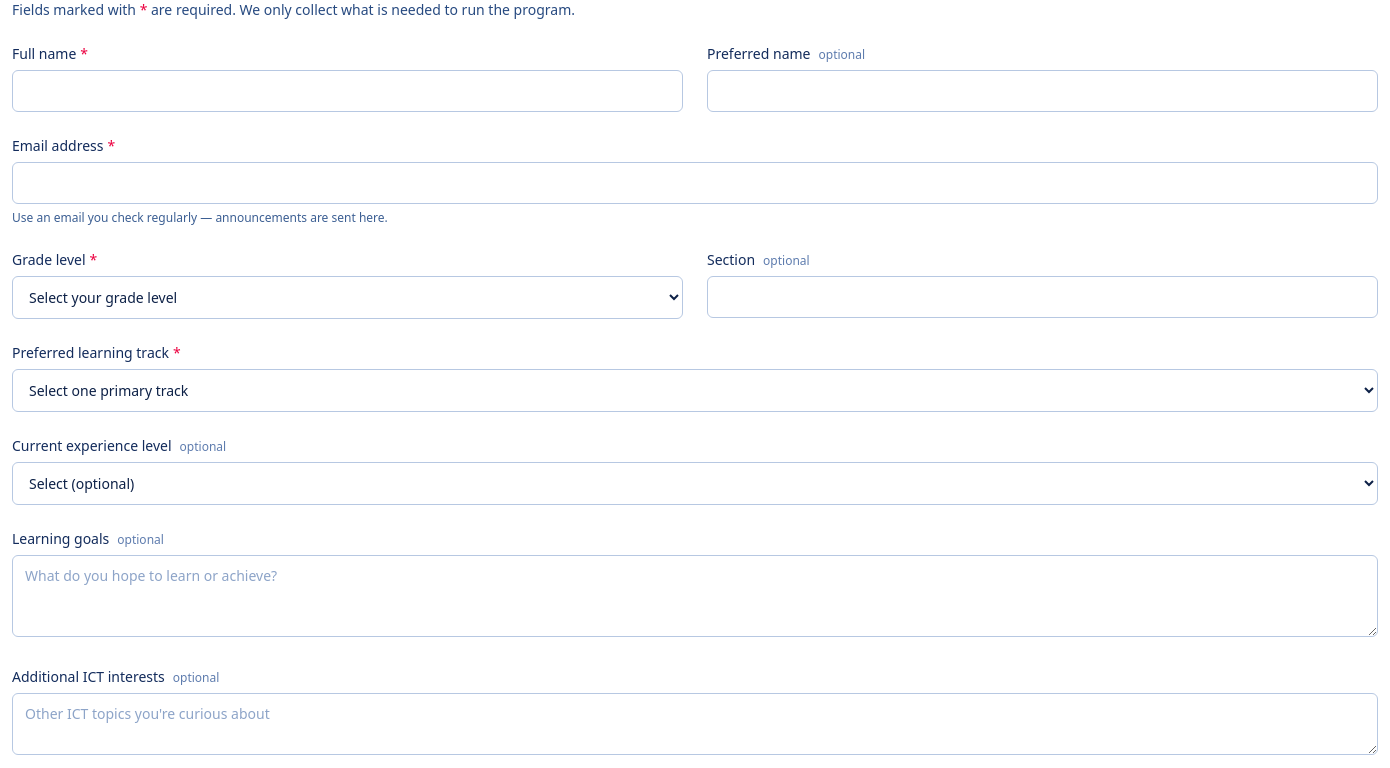
Test case: RegistrationForm › shows the duplicate-registration message without navigating
Type "Juan Dela Cruz" into the field labelled "Full name*" at (348, 91), box [12,70,683,112]
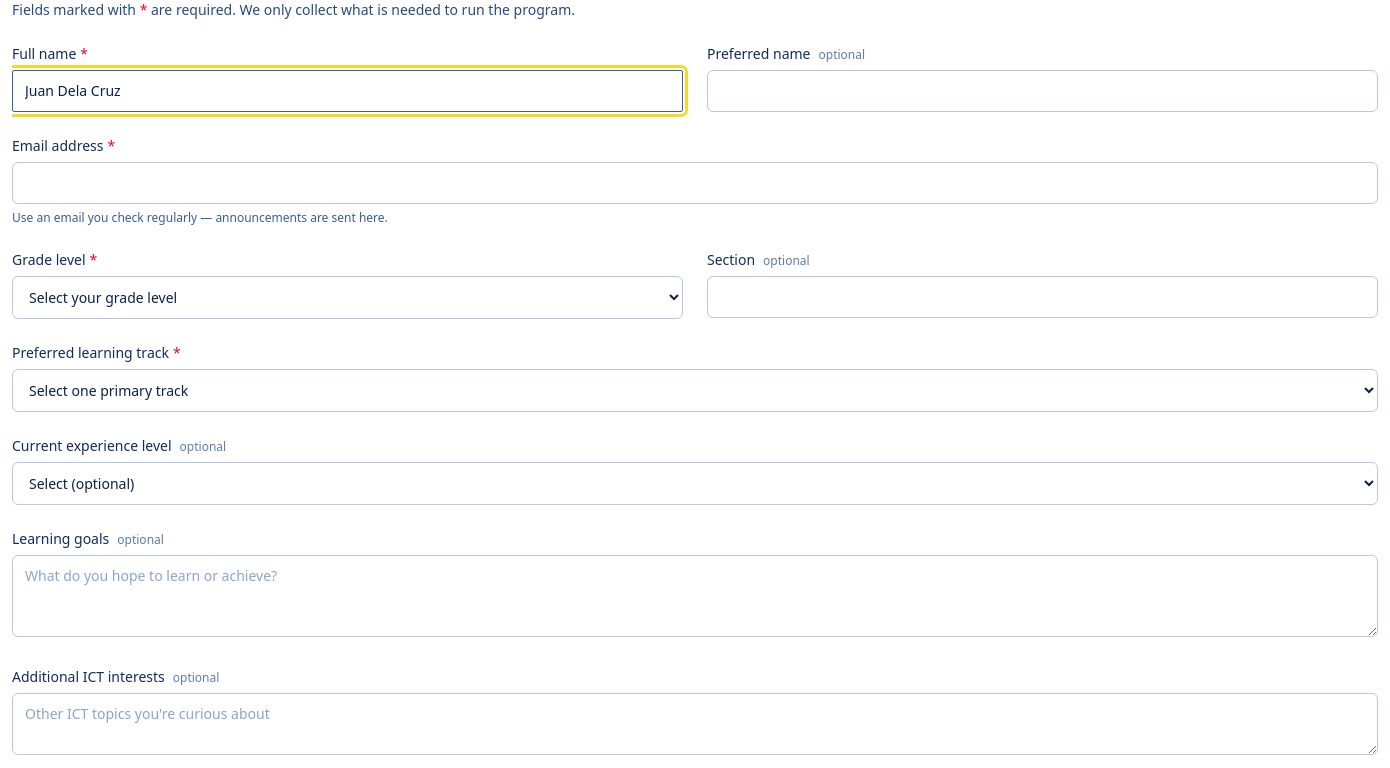
Type "juan@example.com" into the field labelled "Email address*" at (695, 183), box [12,162,1378,204]
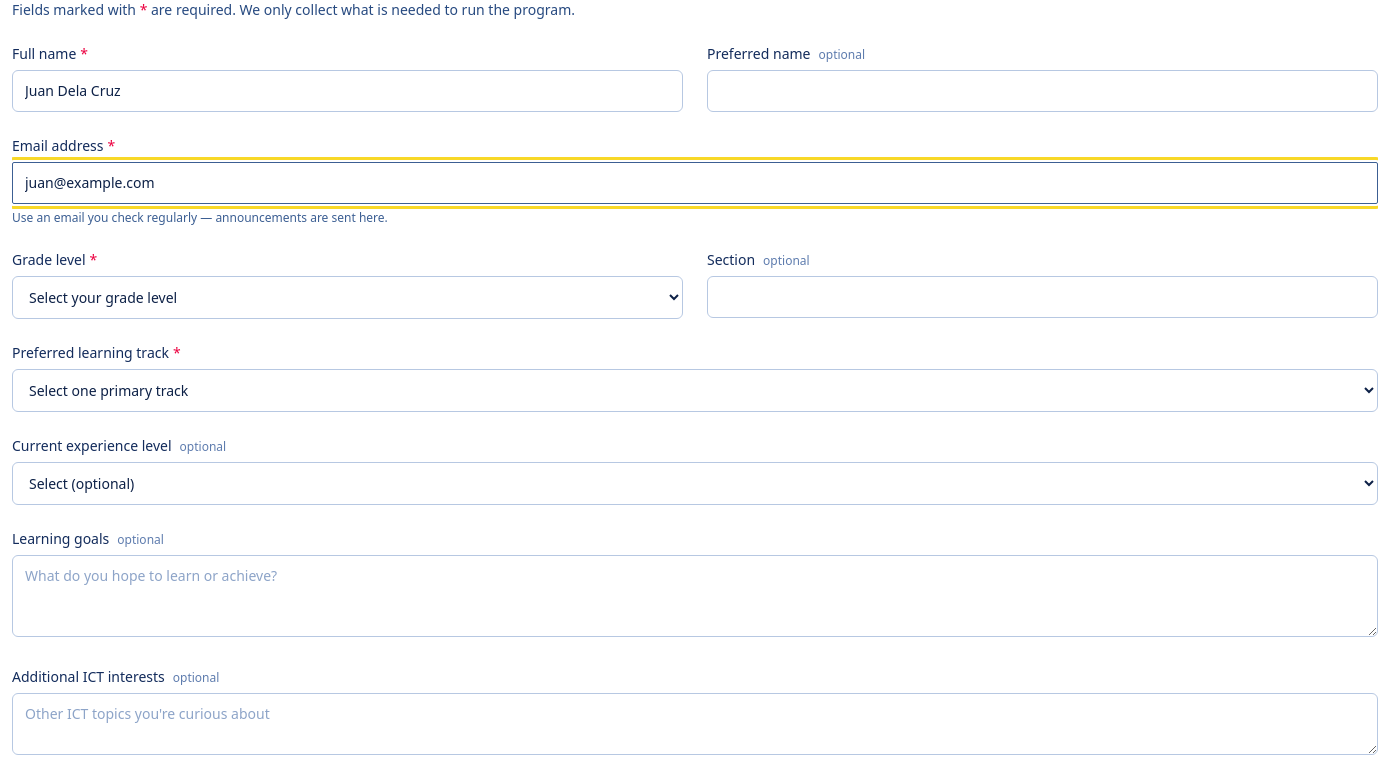
Select "Grade 11" in the dropdown labelled "Grade level*" at (348, 298), box [12,276,683,319]
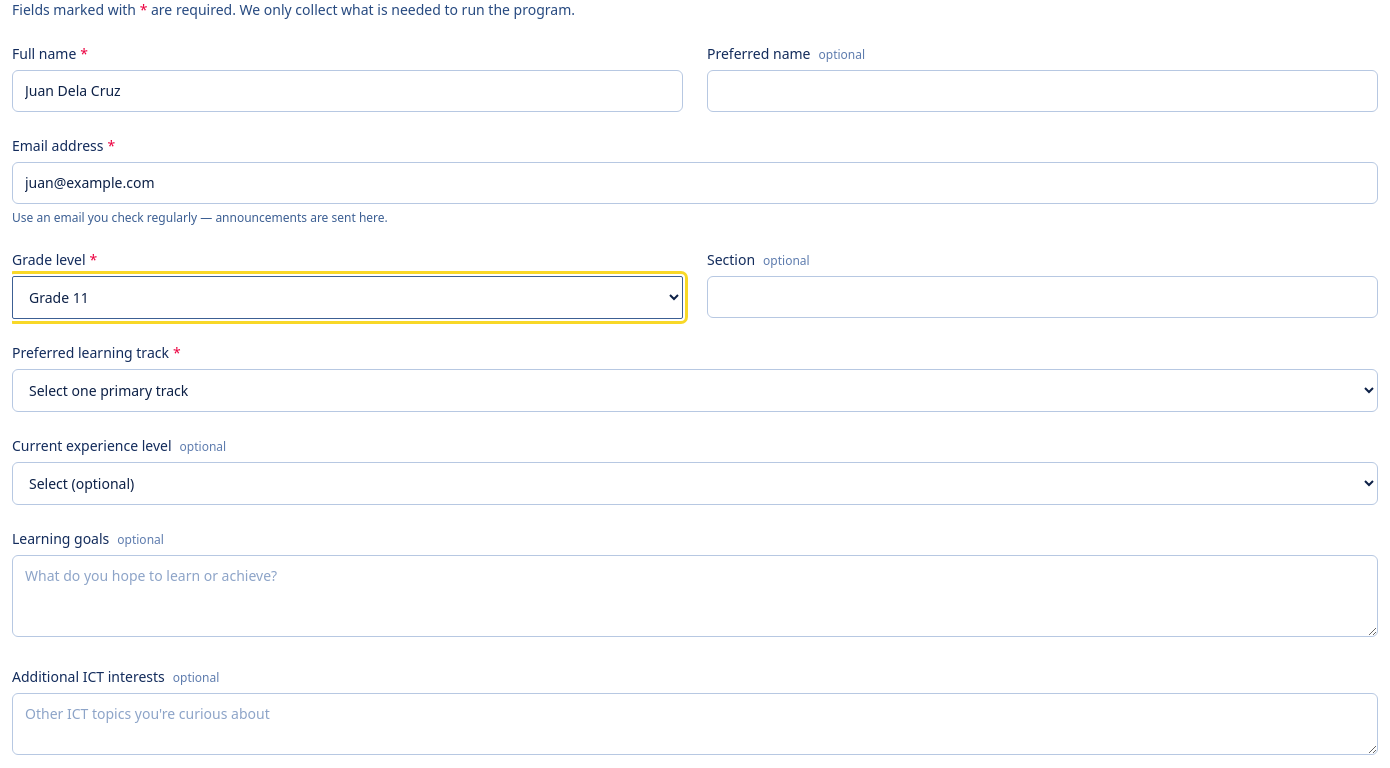
Select "Programming and Web Development" in the dropdown labelled "Preferred learning track*" at (695, 390), box [12,369,1378,412]
(page scrolled)
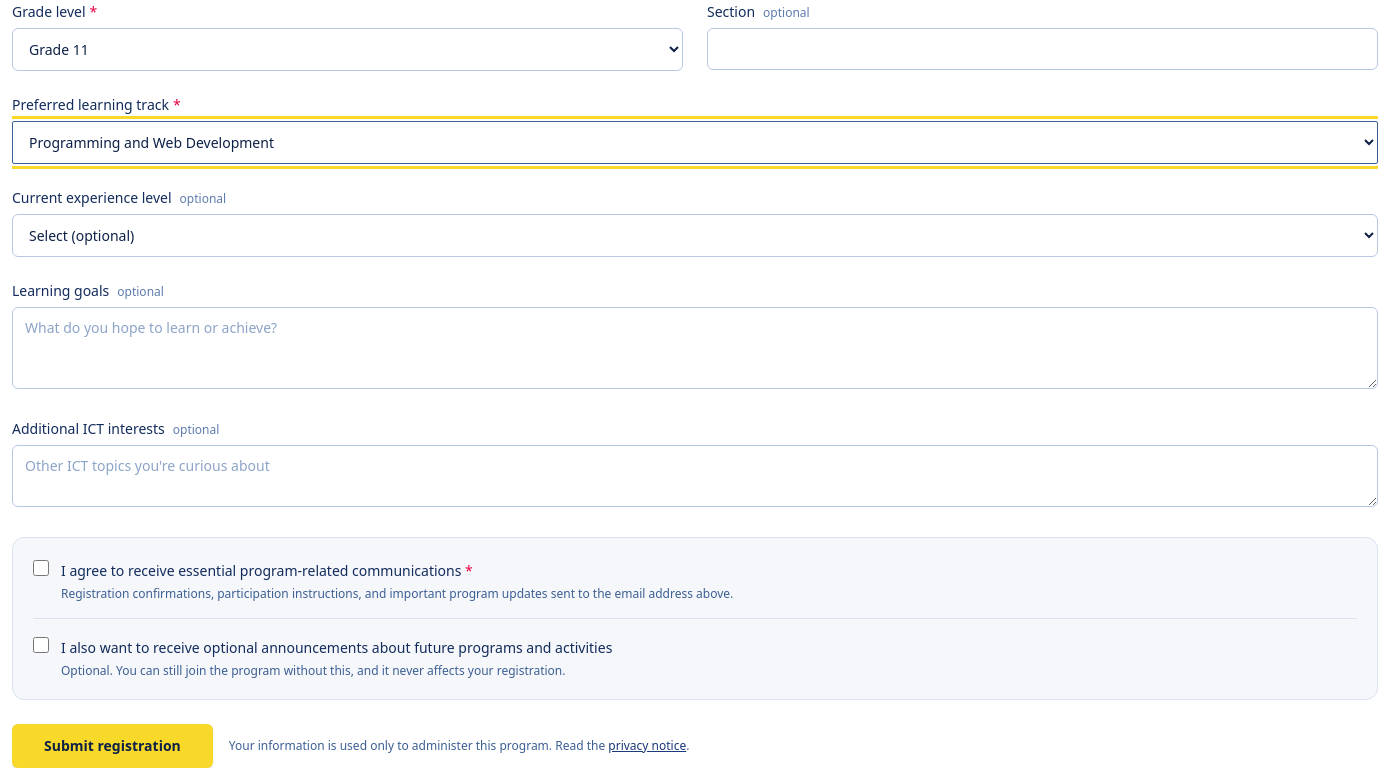
Click the checkbox labelled "essential program-related communications" at (41, 568), box [33,560,49,576]
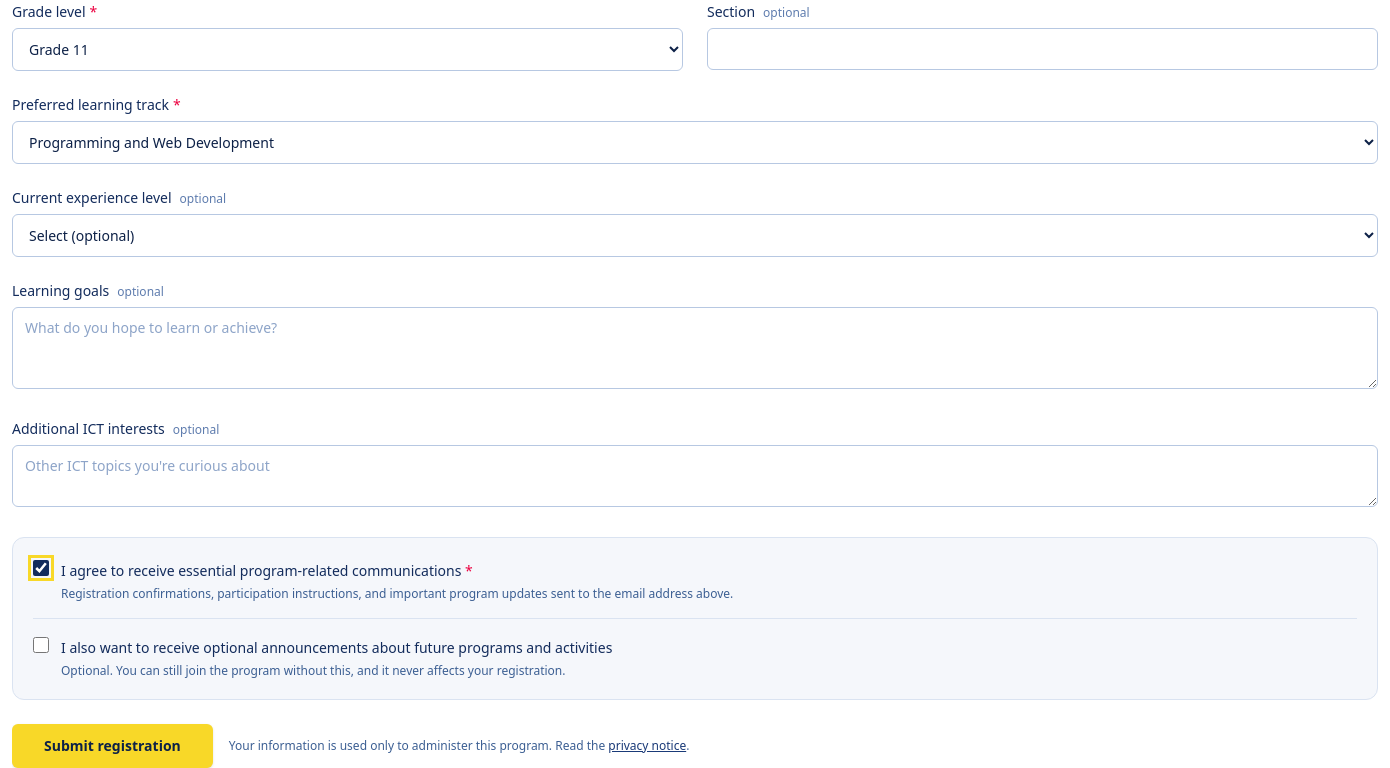
Click the button "Submit registration" at (112, 746), box [12,724,213,767]
(page scrolled)
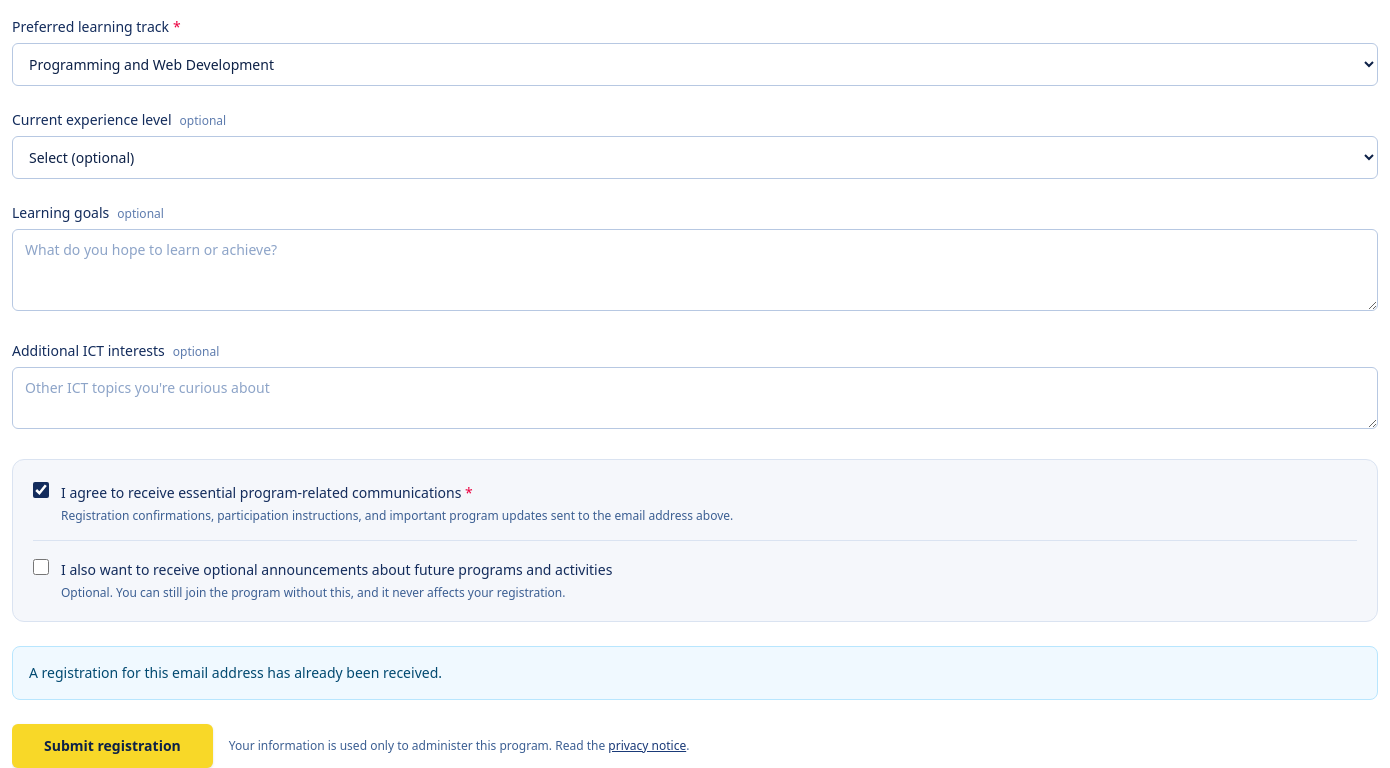
Expected: the text "A registration for this email address has already been received." is shown, [12,646,1378,700]
